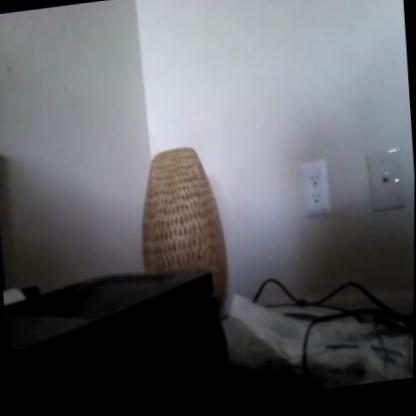OUTLET: (302, 157, 330, 217)
